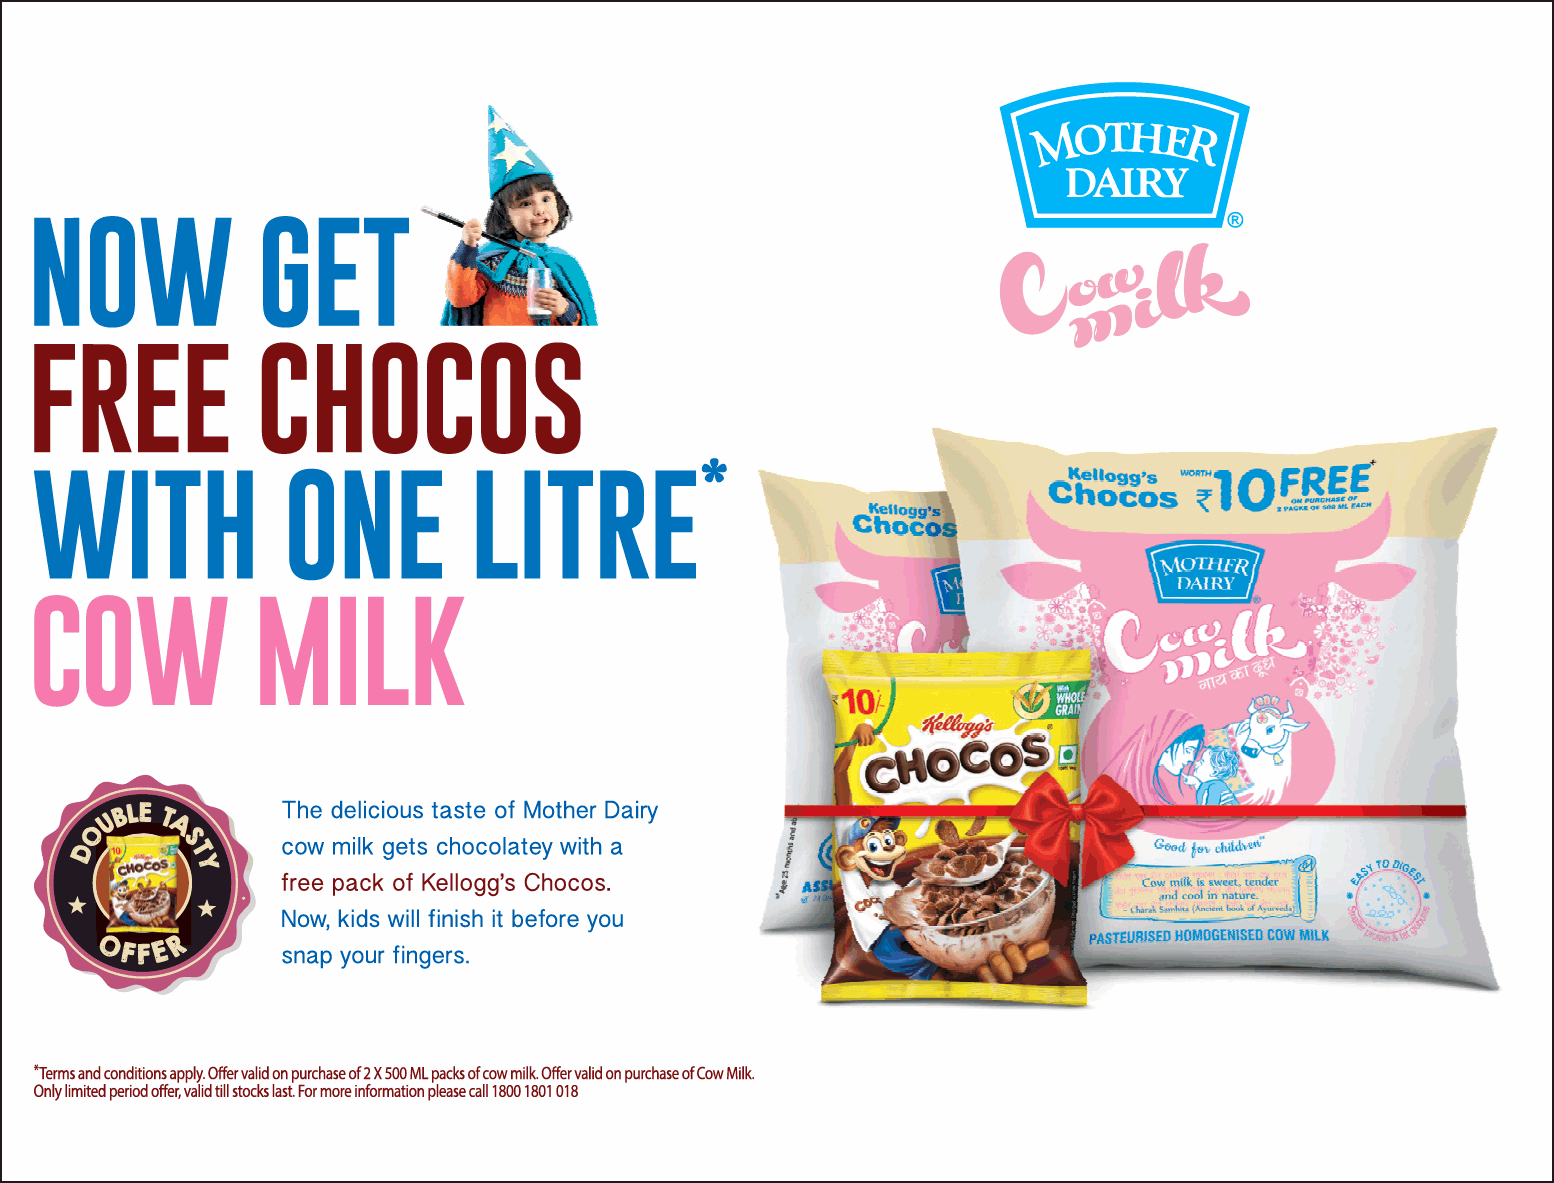Mother_Dairy: (983, 73, 1260, 240), (1132, 534, 1272, 625)
